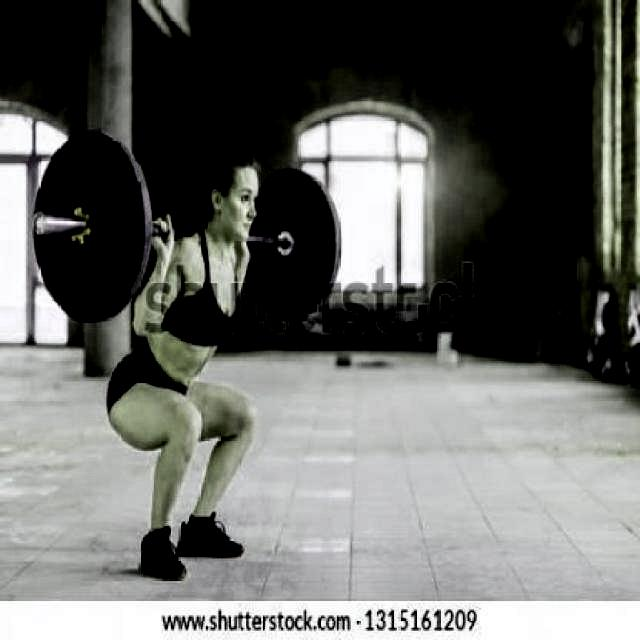barbell: (30, 128, 148, 325)
